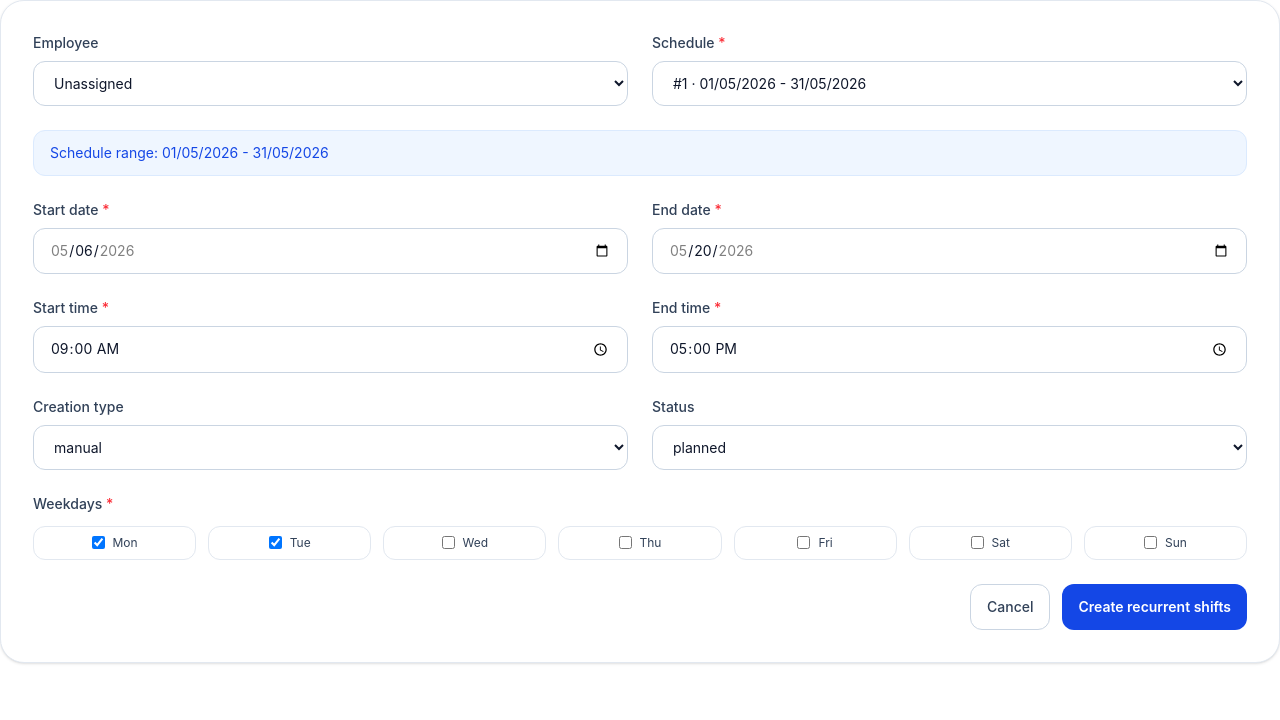
Scenario: RecurrentShiftForm › shows contract loading error when active contract request fails
Select "Marta Lopez" in the dropdown with id "employee-id" at (330, 84), box left=33, top=61, right=628, bottom=106
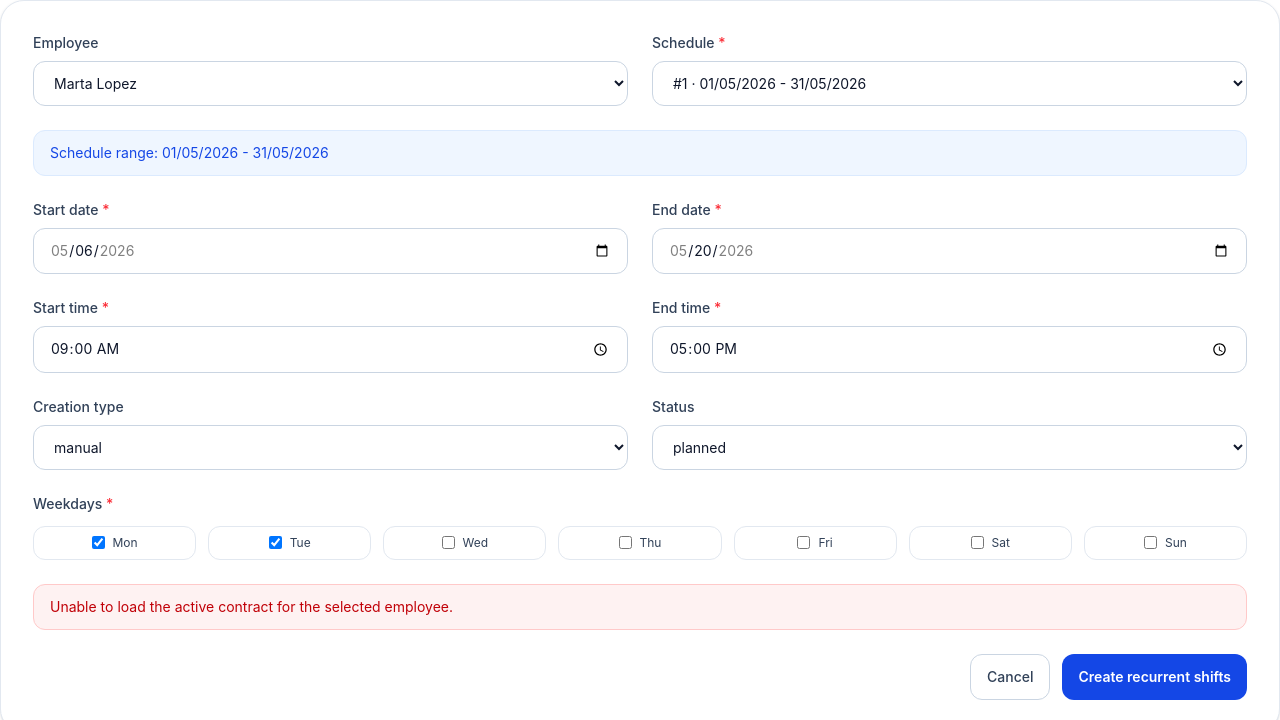
Result: the text "Unable to load the active contract for the selected employee." is shown at left=33, top=584, right=1247, bottom=630
